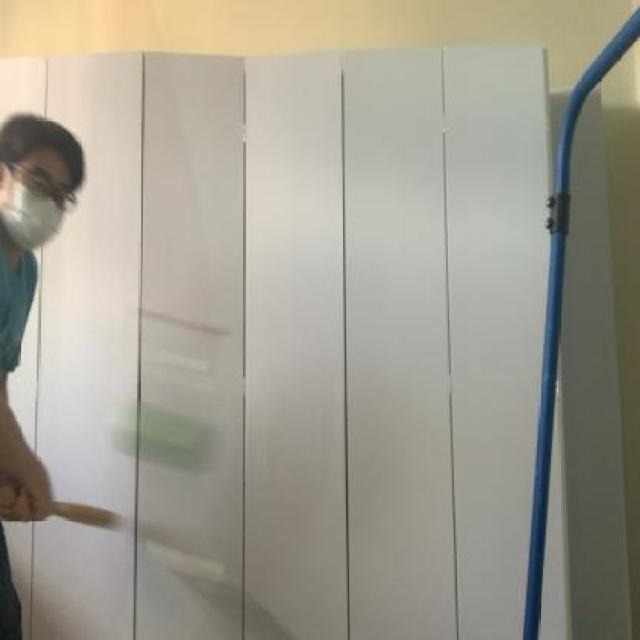baseball: (113, 394, 227, 480)
